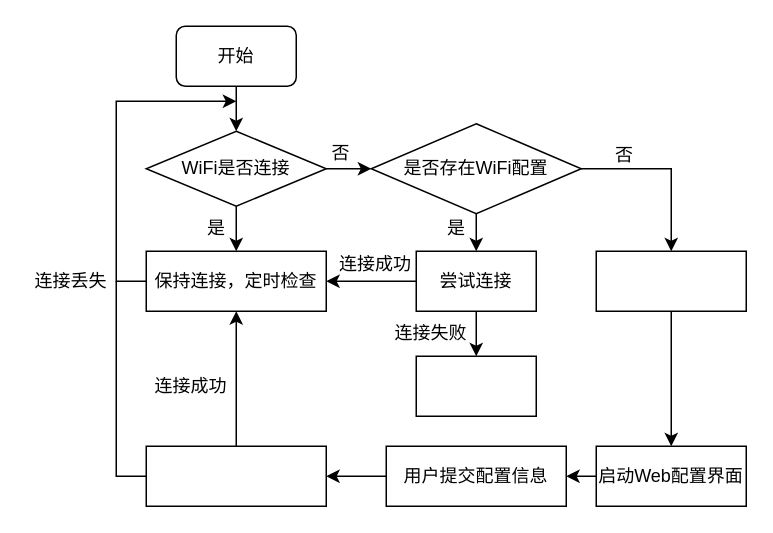
This 773x533 diagram has some shape labels left out. The centre of each missing label's shape, as x and y in pixels:
"保存到NVS并尝试连接" goes at point (235, 475).
"启动AP配网模式" goes at point (670, 280).
"重启IMU" goes at point (475, 385).
